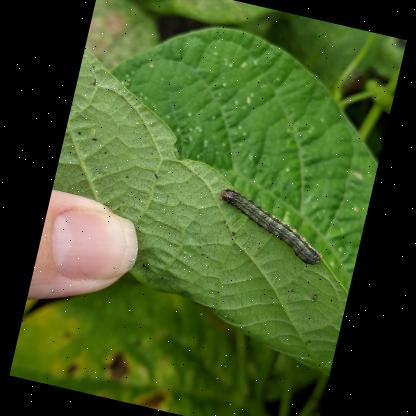Fall Armyworm Larvae: (207, 184, 335, 271)
